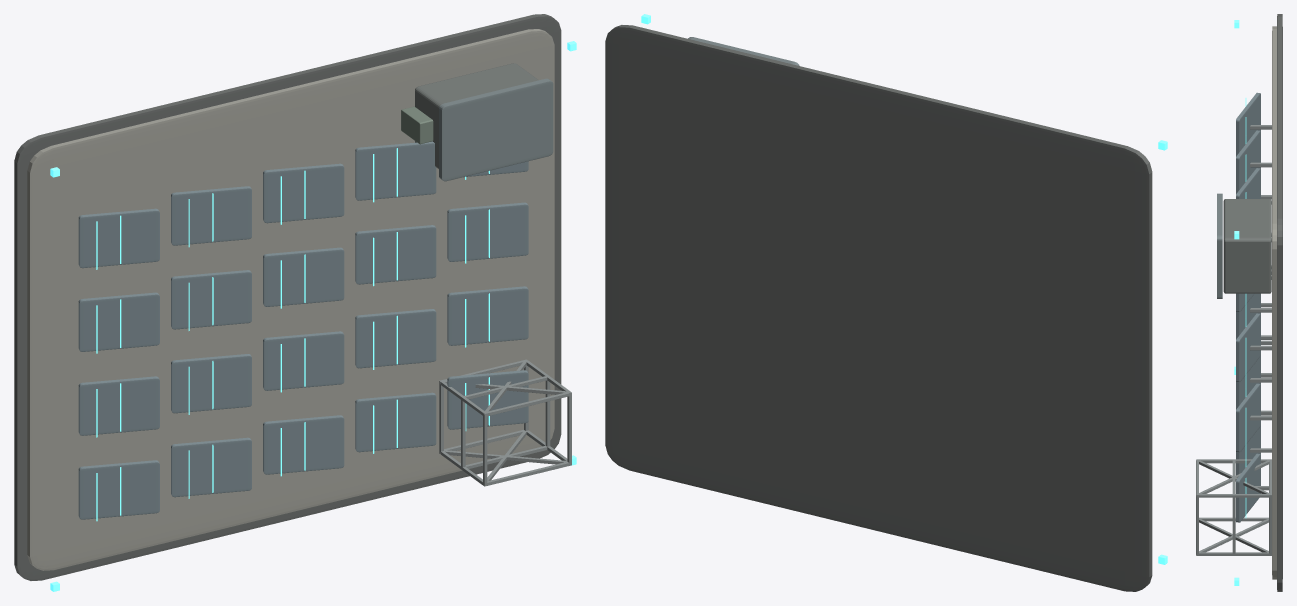
File: b-03-solar-array-lod1.glb
3 views of the same model, side by side, from view 1: azimuth 30°, elevation 25°; view 2: azimuth 150°, elevation 25°; view 3: azimuth 270°, elevation 25° (orthographic). The views are drawn at different scales.
Visible parts, largest first — view 1: foundation_inner_pad, foundation, inverter_house_roof, solar_2_2_panel, solar_3_2_panel, solar_0_0_panel, solar_0_2_panel, solar_1_0_panel, solar_0_1_panel, solar_1_2_panel, solar_3_0_panel, solar_1_1_panel (+12 smaller); view 2: foundation; view 3: inverter_house_main_hall, foundation, foundation_inner_pad, solar_1_4_panel, solar_2_4_panel, solar_0_4_panel, solar_3_1_panel, solar_3_0_panel, inverter_house_roof, solar_1_3_panel, solar_2_3_panel, solar_3_2_panel (+13 smaller).
Part boxes in pixels (x1,y1,x2,y2): foundation_inner_pad: [27, 29, 554, 570]; foundation: [14, 14, 561, 580]; inverter_house_roof: [439, 78, 553, 181]; solar_2_2_panel: [263, 247, 344, 306]; solar_3_2_panel: [263, 163, 344, 223]; solar_0_0_panel: [78, 460, 159, 519]; solar_0_2_panel: [263, 415, 344, 474]; solar_1_0_panel: [78, 376, 159, 435]; solar_0_1_panel: [171, 437, 251, 497]; solar_1_2_panel: [263, 331, 344, 390]; solar_3_0_panel: [78, 208, 159, 268]; solar_1_1_panel: [171, 354, 251, 413]; foundation: [605, 25, 1152, 591]; inverter_house_main_hall: [1223, 199, 1271, 293]; foundation: [1277, 14, 1282, 591]; foundation_inner_pad: [1272, 26, 1276, 579]; solar_1_4_panel: [1236, 383, 1260, 452]; solar_2_4_panel: [1236, 313, 1260, 382]; solar_0_4_panel: [1236, 453, 1260, 522]; solar_3_1_panel: [1236, 130, 1260, 194]; solar_3_0_panel: [1236, 92, 1260, 156]; inverter_house_roof: [1217, 193, 1222, 298]; solar_1_3_panel: [1236, 355, 1260, 409]; solar_2_3_panel: [1236, 293, 1260, 339]; solar_3_2_panel: [1236, 168, 1260, 198].
Size of what is drawn, in the model's own units: 18 by 14 by 2.97.
